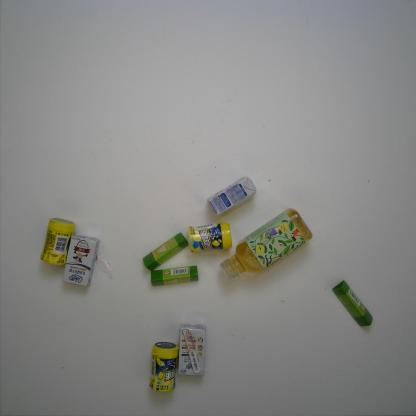Drink: (219, 207, 313, 282)
Gum: (40, 218, 76, 266), (148, 340, 180, 392), (188, 220, 232, 254)
Milk: (62, 234, 100, 286), (208, 176, 256, 216), (178, 322, 206, 376)
Stationery: (332, 280, 373, 328), (142, 232, 188, 272), (151, 264, 198, 287)
